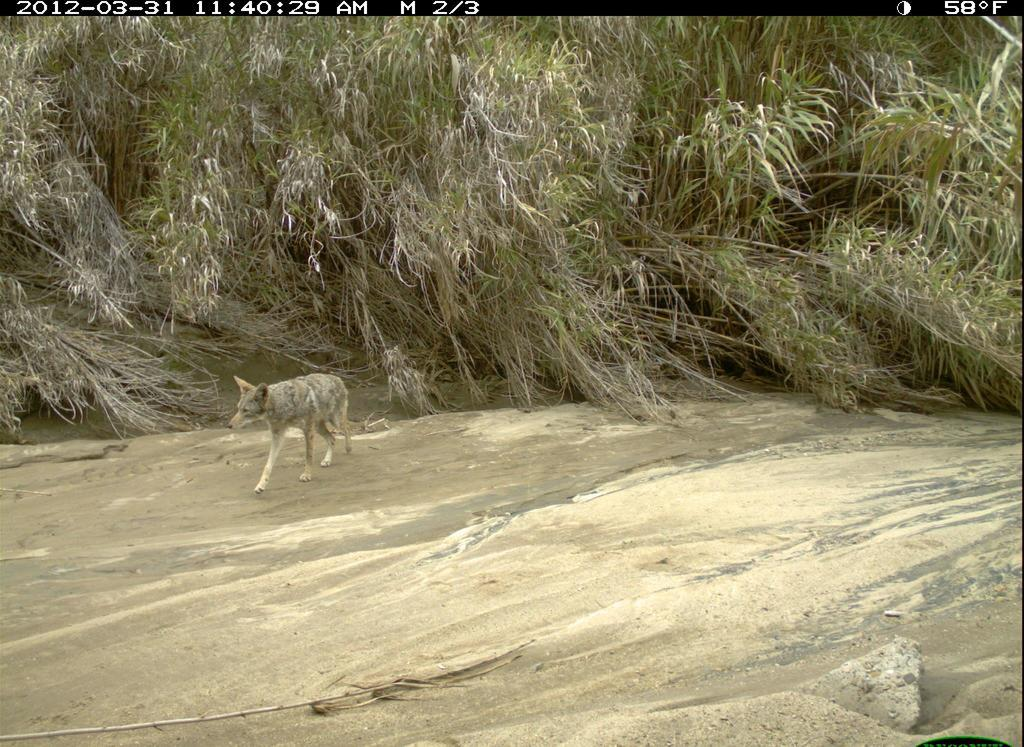coyote: (209, 367, 381, 510)
